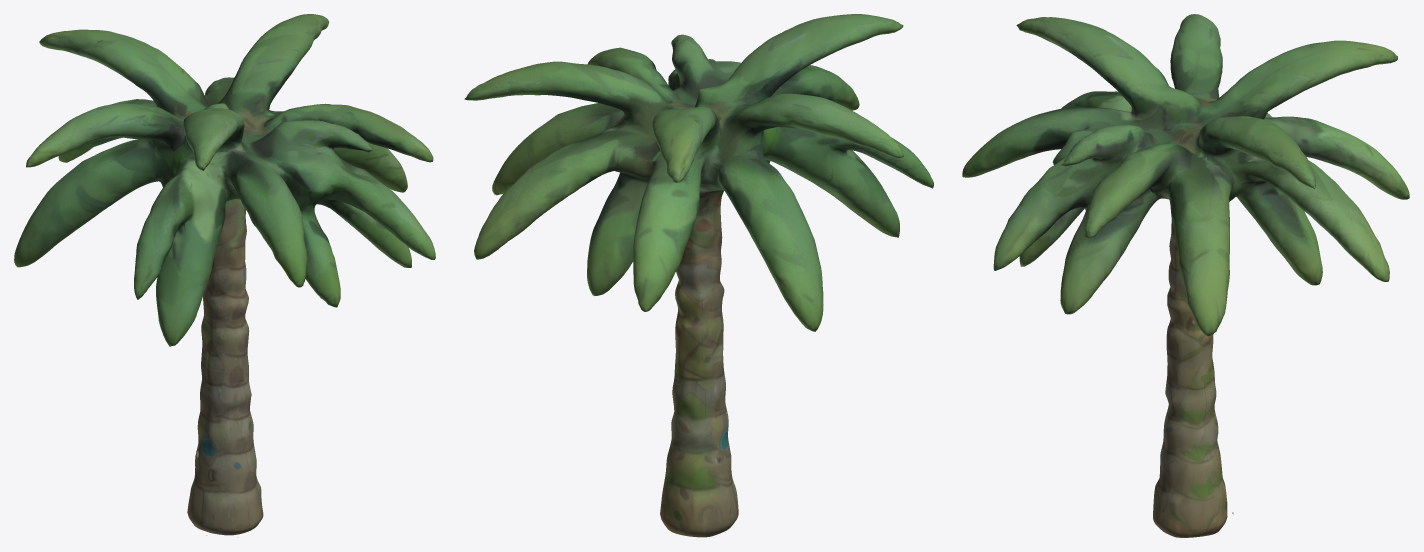
The model's file is Palm_Tree_0713194932_refine.fbx.
The picture shows the model from 3 angles, left to right: view 1: azimuth 30°, elevation 25°; view 2: azimuth 150°, elevation 25°; view 3: azimuth 270°, elevation 25°; orthographic projection. The views are drawn at different scales.
Parts seen in each view (by area): view 1: Mesh_0; view 2: Mesh_0; view 3: Mesh_0.
Part boxes in pixels (x1,y1,x2,y2): Mesh_0: (14, 14, 435, 535); Mesh_0: (464, 14, 933, 537); Mesh_0: (962, 14, 1409, 537).
Size of the model in its own units: 104 by 120 by 104.
Materials: 1 (1 with a texture image).
